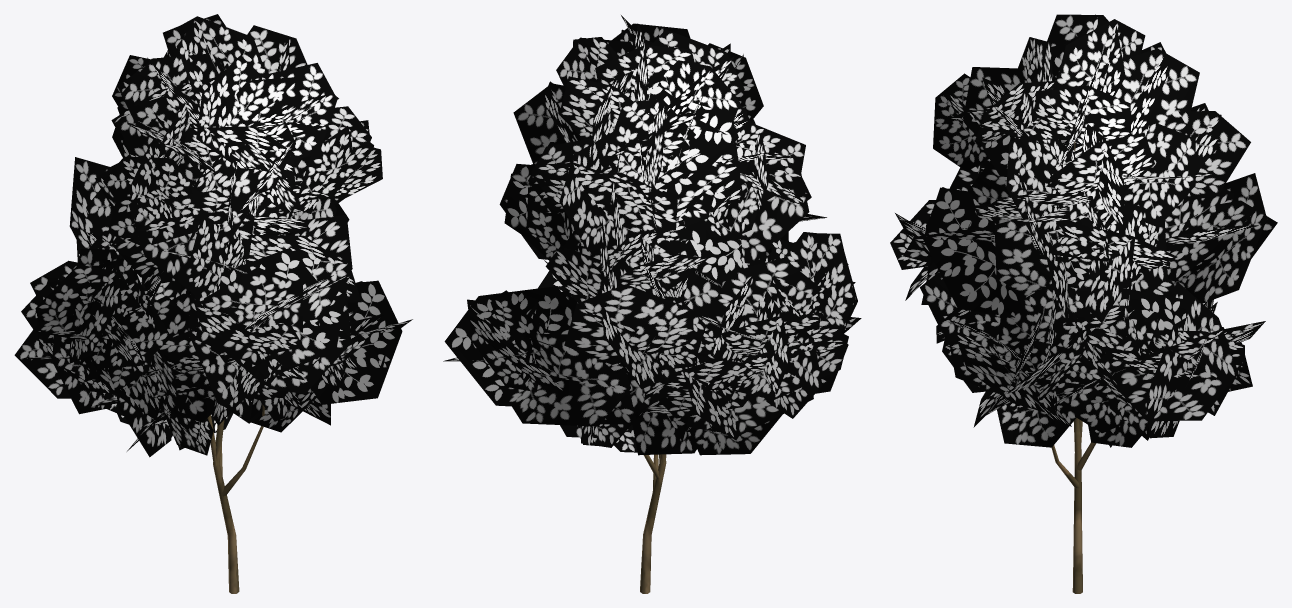
File: P_OakSapling1.obj
3 renders of one model, left to right at view 1: azimuth 30°, elevation 25°; view 2: azimuth 150°, elevation 25°; view 3: azimuth 270°, elevation 25°, orthographic.
Size of the model in its own units: 5.37 by 8.42 by 5.24.
